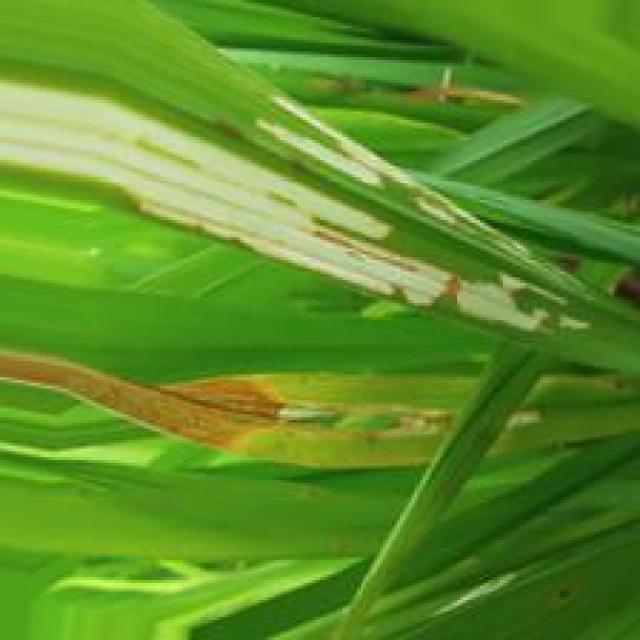Rice_Hispa: (0, 80, 580, 337), (256, 95, 590, 296)
